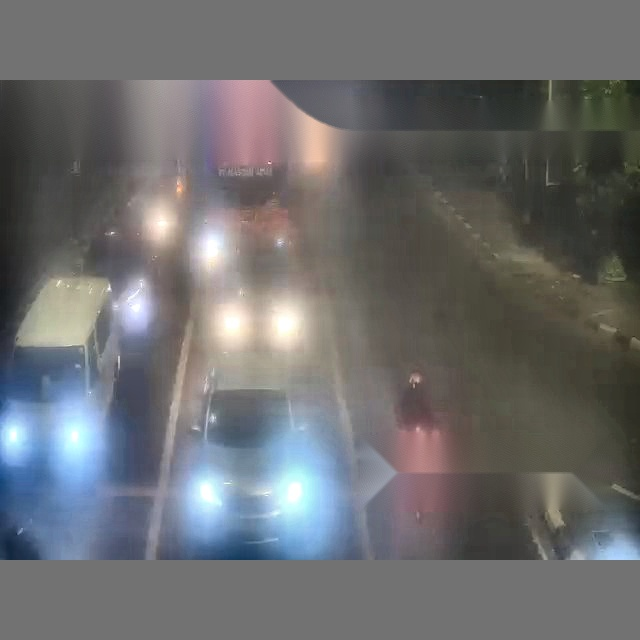Mobil: (148, 356, 363, 557), (0, 276, 120, 556)
Motor: (143, 201, 178, 262)
